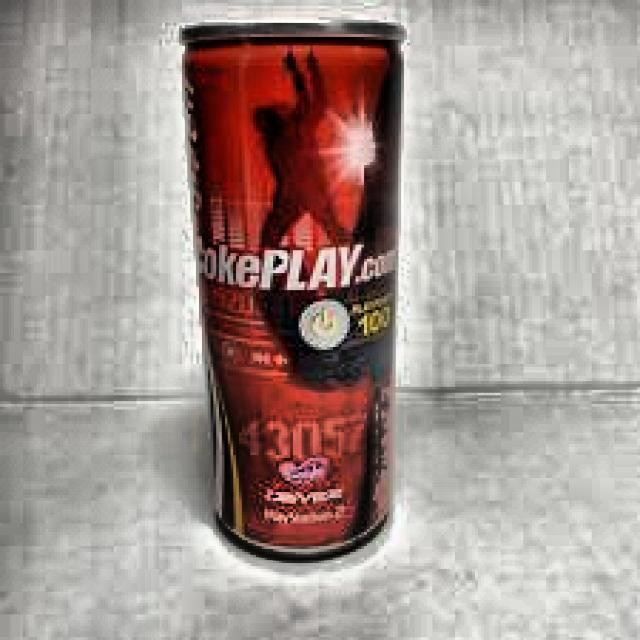Cans: (168, 13, 408, 576)
